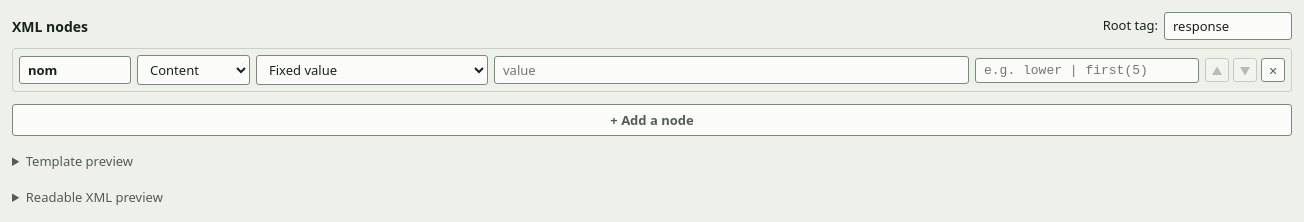
it: XmlResponseBuilder — "Script result" source › shows the value input when the "script" source is chosen
Select "Script result" in the dropdown named "Source" at (372, 70), box [256,55,488,85]
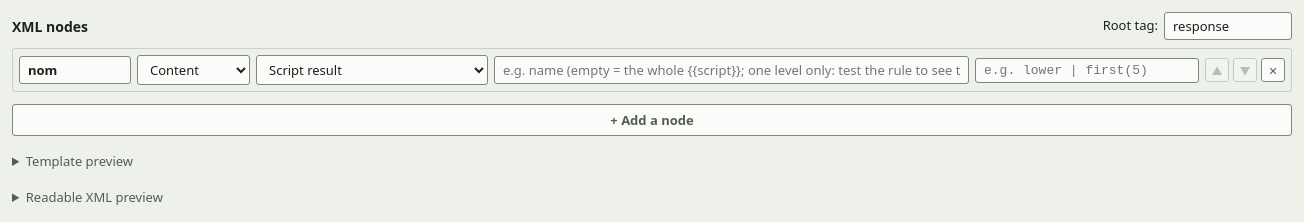
Check: the field named "Value" is shown, box [494,56,969,84]
